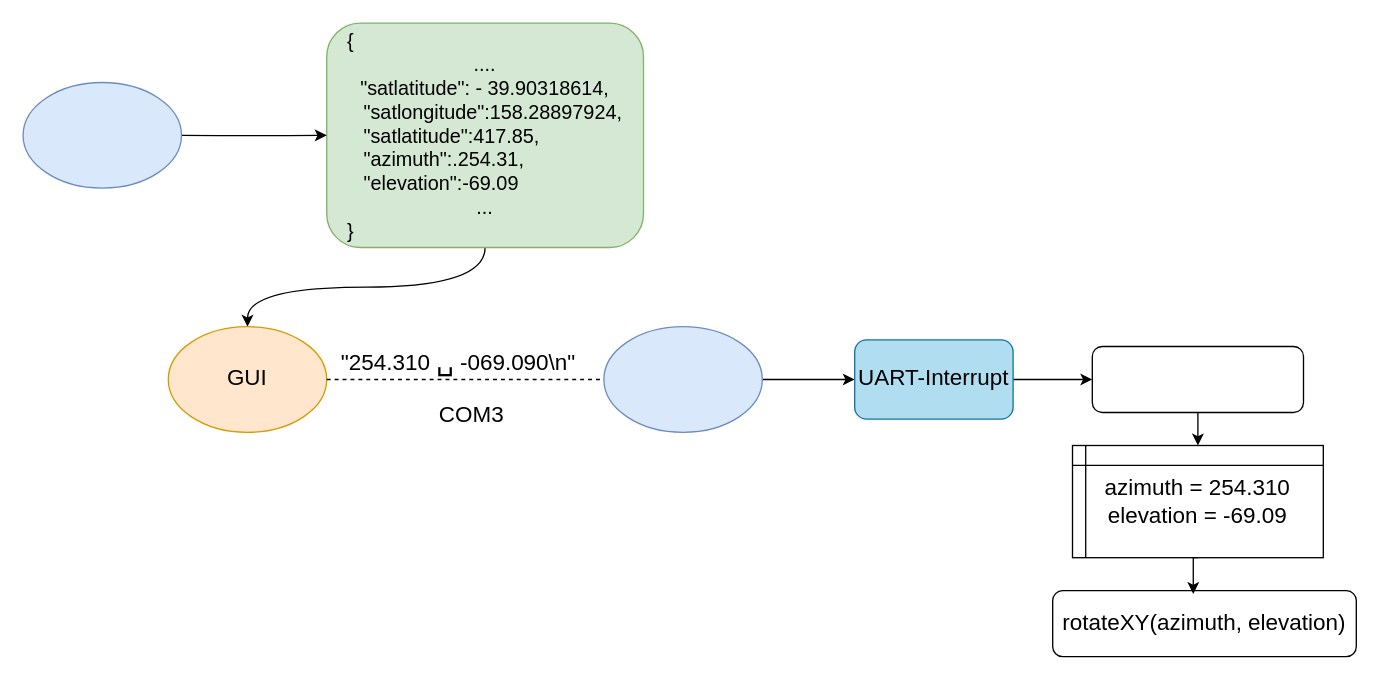
Some shapes in this 1379 by 680 pixel diagram are drawn without their labels. The centre of each missing label's shape, as x and y in pixels:
"API (N2YO)" goes at pixel 102 134.
"recievePosition ()" goes at pixel 1197 378.
"STM32" goes at pixel 682 378.
